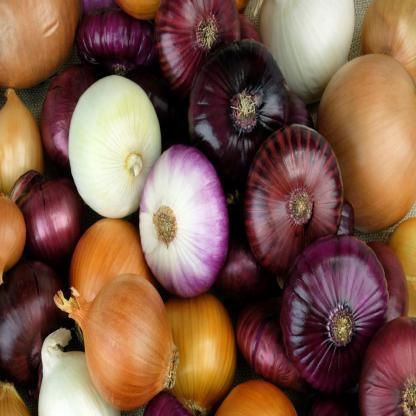onion: (51, 262, 190, 416), (247, 124, 348, 276), (63, 75, 164, 220)
